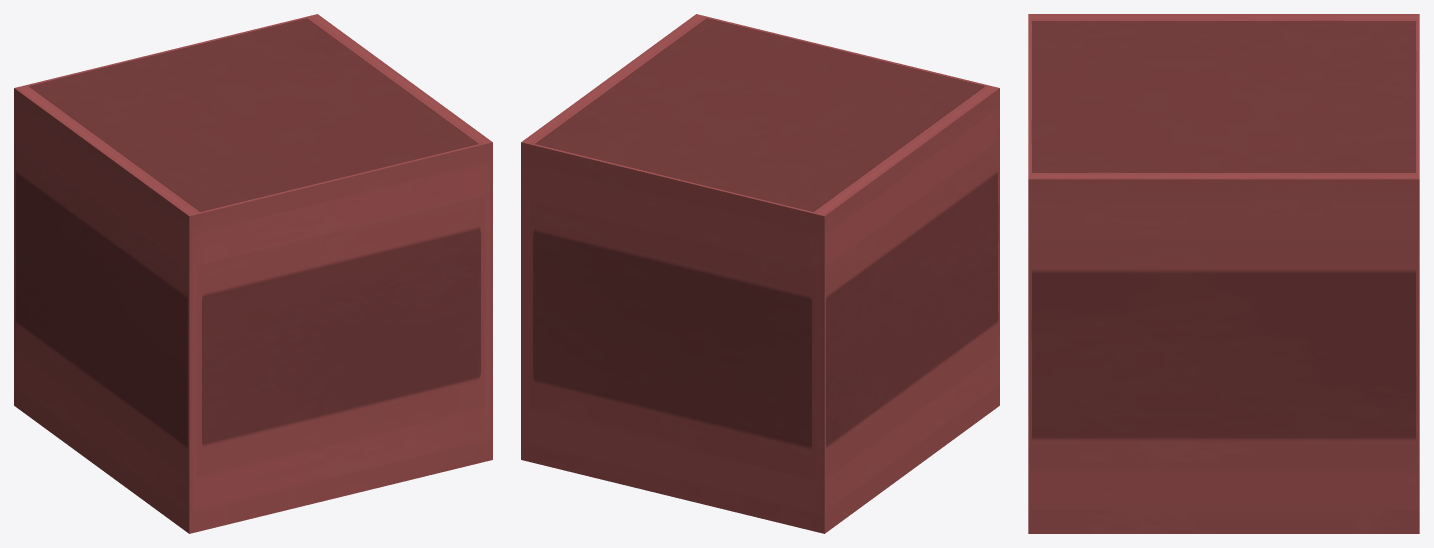
The model's file is ScalableMesh_Ground__2.fbx.
The picture shows the model from 3 angles, left to right: view 1: azimuth 30°, elevation 25°; view 2: azimuth 150°, elevation 25°; view 3: azimuth 270°, elevation 25°; orthographic projection. The views are drawn at different scales.
Visible parts, largest first — view 1: MAT_ScalableMesh_03 2; view 2: MAT_ScalableMesh_03 2; view 3: MAT_ScalableMesh_03 2.
Part boxes in pixels (bbox=[...]): MAT_ScalableMesh_03 2: bbox=[14, 14, 492, 533]; MAT_ScalableMesh_03 2: bbox=[521, 14, 999, 533]; MAT_ScalableMesh_03 2: bbox=[1028, 14, 1419, 533].
Bounding box in the file's own units: 1 × 1 × 1.
Materials: 1 (1 with a texture image).
